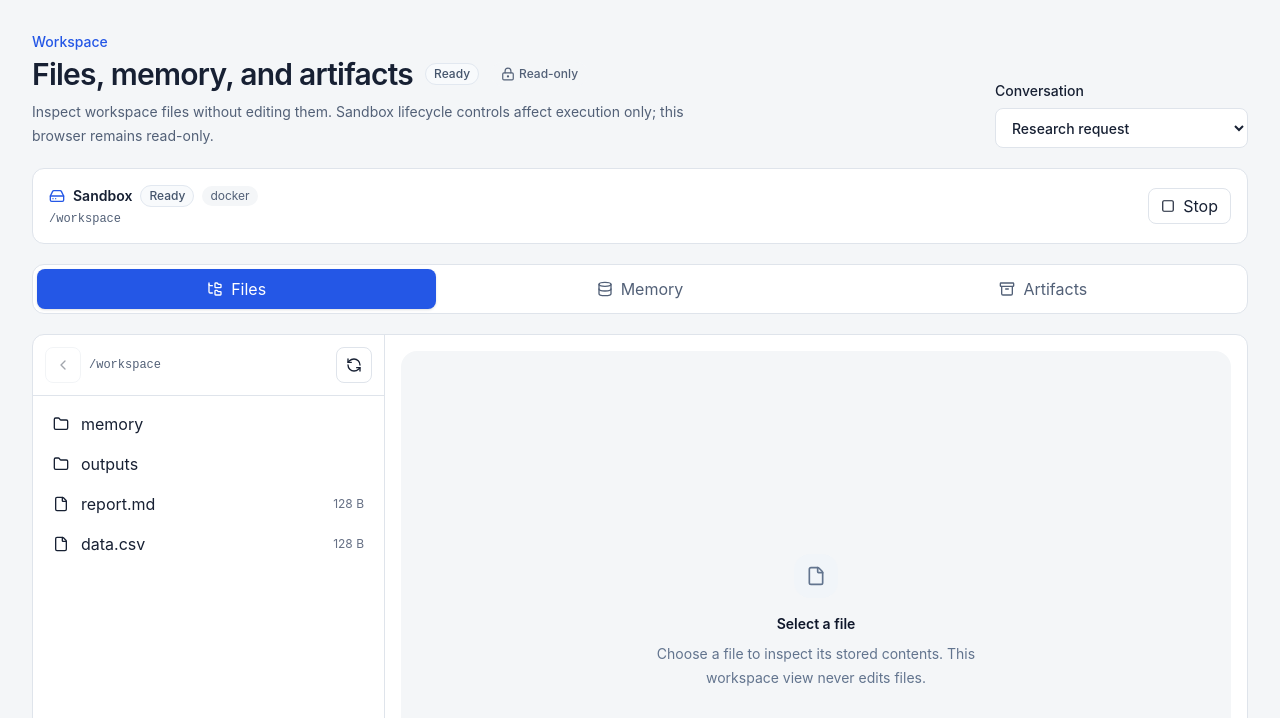
Test: WorkspacePage › provides read-only Files, Memory, and Artifacts sections backed by workspace data
Check: the text "Read-only" is shown, box [491, 62, 588, 86]
Click the tab "Memory": (640, 289) [440, 269, 840, 309]
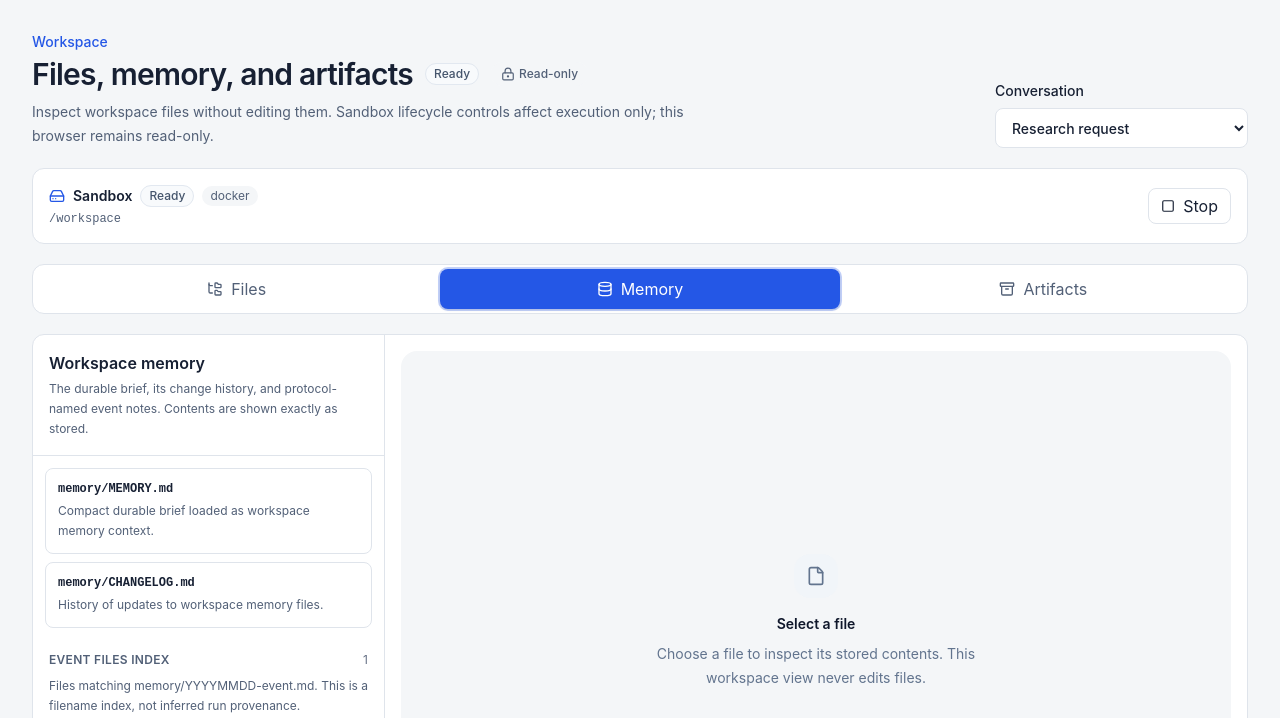
Check: the text "memory/MEMORY.md" is shown
Check: the text "memory/CHANGELOG.md" is shown, box [58, 576, 195, 590]
Check: the heading "Event files index" is shown, box [49, 652, 170, 668]
Click the text "memory/MEMORY.md": (116, 489) [58, 482, 173, 496]
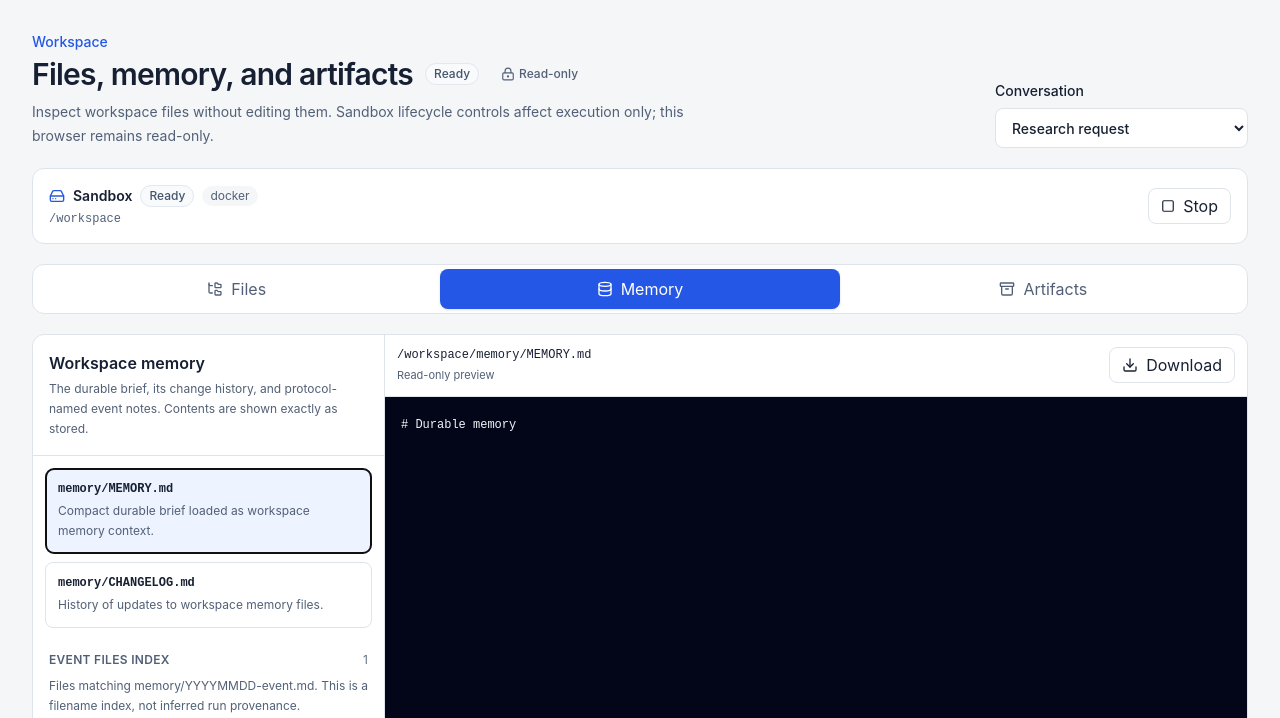
Check: the text "# Durable memory" is shown, box [401, 418, 516, 432]
Click the tab "Artifacts": (1043, 289) [844, 269, 1243, 309]
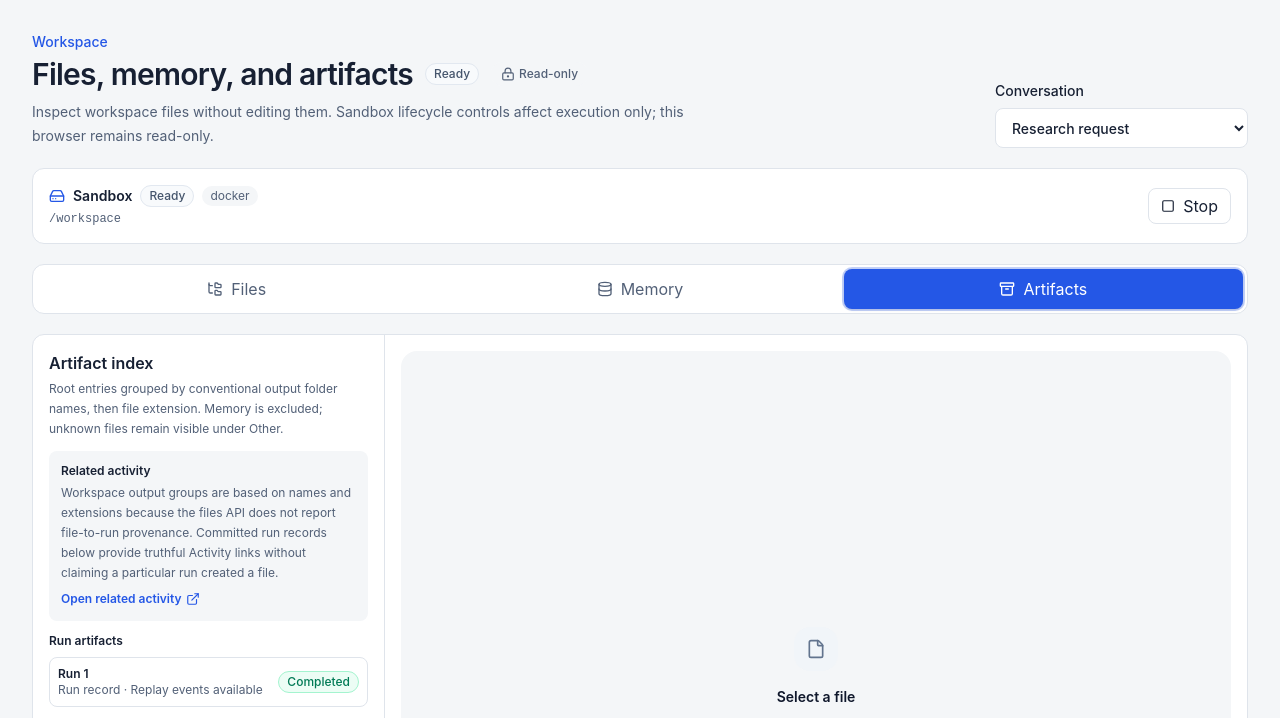
Check: the text "does not report file-to-run provenance" is shown, box [61, 485, 351, 580]
